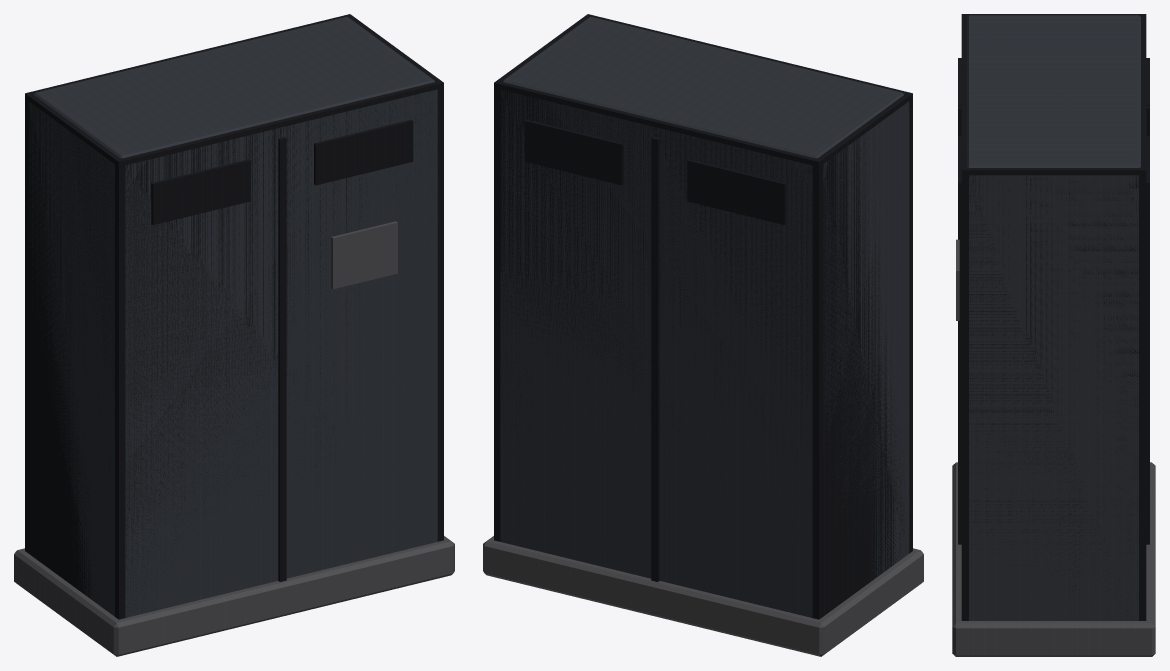
The model's file is kit_utility_cabinet.glb.
3 views of the same model, side by side, from view 1: azimuth 30°, elevation 25°; view 2: azimuth 150°, elevation 25°; view 3: azimuth 270°, elevation 25° (orthographic).
Parts seen in each view (by area): view 1: uc_body, uc_COL, uc_plinth, uc_vent-1, uc_vent1, uc_seam, uc_warning; view 2: uc_body, uc_COL, uc_plinth, uc_vent-1, uc_vent1, uc_seam; view 3: uc_body, uc_COL, uc_plinth, uc_seam, uc_vent1, uc_vent-1, uc_warning.
Part boxes in pixels (left/top/right/bottom): uc_body: left=28, top=16, right=437, bottom=617; uc_COL: left=25, top=14, right=443, bottom=619; uc_plinth: left=14, top=536, right=454, bottom=656; uc_vent-1: left=151, top=159, right=250, bottom=225; uc_vent1: left=314, top=119, right=413, bottom=185; uc_seam: left=278, top=137, right=286, bottom=581; uc_warning: left=331, top=221, right=397, bottom=289; uc_body: left=500, top=16, right=909, bottom=617; uc_COL: left=494, top=14, right=912, bottom=619; uc_plinth: left=483, top=536, right=923, bottom=656; uc_vent-1: left=687, top=159, right=786, bottom=225; uc_vent1: left=524, top=119, right=623, bottom=185; uc_seam: left=651, top=137, right=659, bottom=581; uc_body: left=967, top=15, right=1140, bottom=620; uc_COL: left=961, top=14, right=1146, bottom=620; uc_plinth: left=952, top=462, right=1155, bottom=656; uc_seam: left=958, top=105, right=1149, bottom=544; uc_vent1: left=958, top=136, right=1149, bottom=223; uc_vent-1: left=958, top=58, right=1149, bottom=105; uc_warning: left=956, top=239, right=959, bottom=320.
Size of the model in its own units: 1.05 by 1.45 by 0.55.
4 materials, 4 textured.
